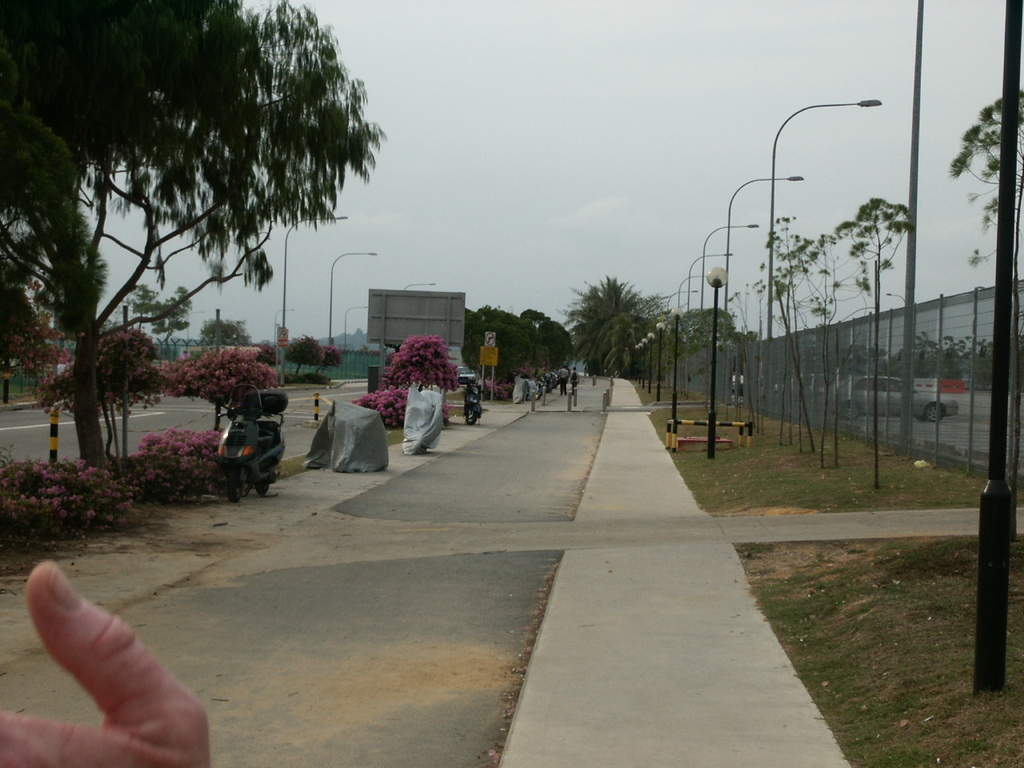Tree: (0, 0, 386, 493), (457, 272, 754, 390), (748, 332, 1023, 382)
